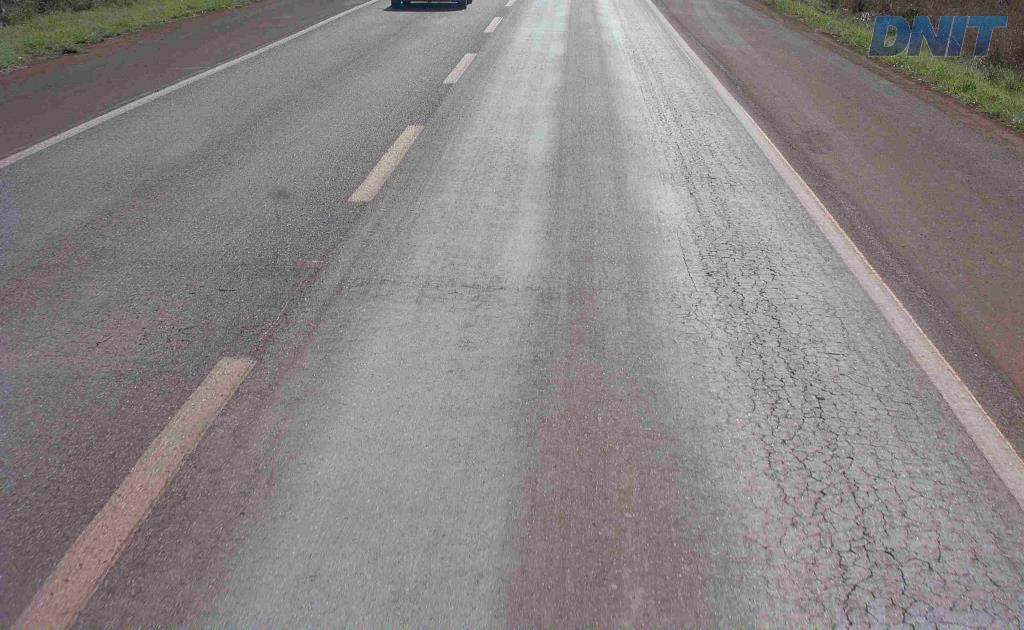crack: (985, 526, 1022, 592)
